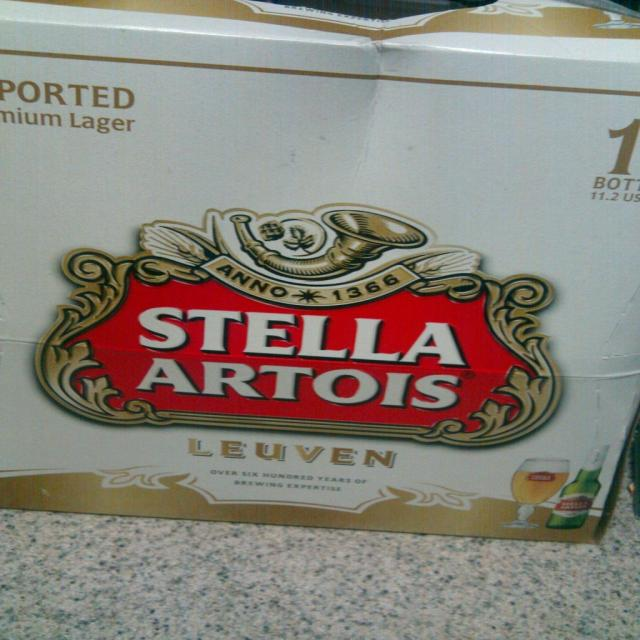stellaartois: (18, 198, 569, 453)
